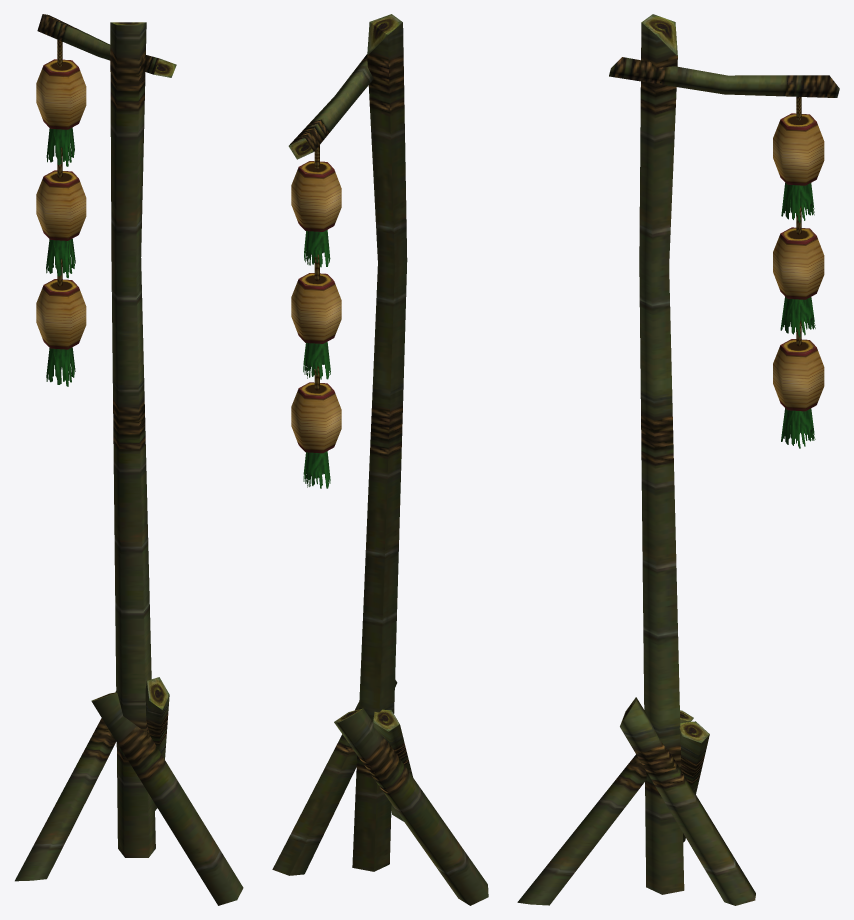
The model's file is denglongjia_zhufang_20.fbx.
The picture shows the model from 3 angles, left to right: view 1: azimuth 30°, elevation 25°; view 2: azimuth 150°, elevation 25°; view 3: azimuth 270°, elevation 25°; orthographic projection. The views are drawn at different scales.
Visible parts, largest first — view 1: denglongjia_zhufang_20; view 2: denglongjia_zhufang_20; view 3: denglongjia_zhufang_20.
Boxes of the visible parts, x1=… form: denglongjia_zhufang_20: x1=15, y1=14, x2=243, y2=905; denglongjia_zhufang_20: x1=272, y1=14, x2=488, y2=905; denglongjia_zhufang_20: x1=517, y1=14, x2=839, y2=905.
Size of what is drawn, in the model's own units: 132 by 595 by 200.
